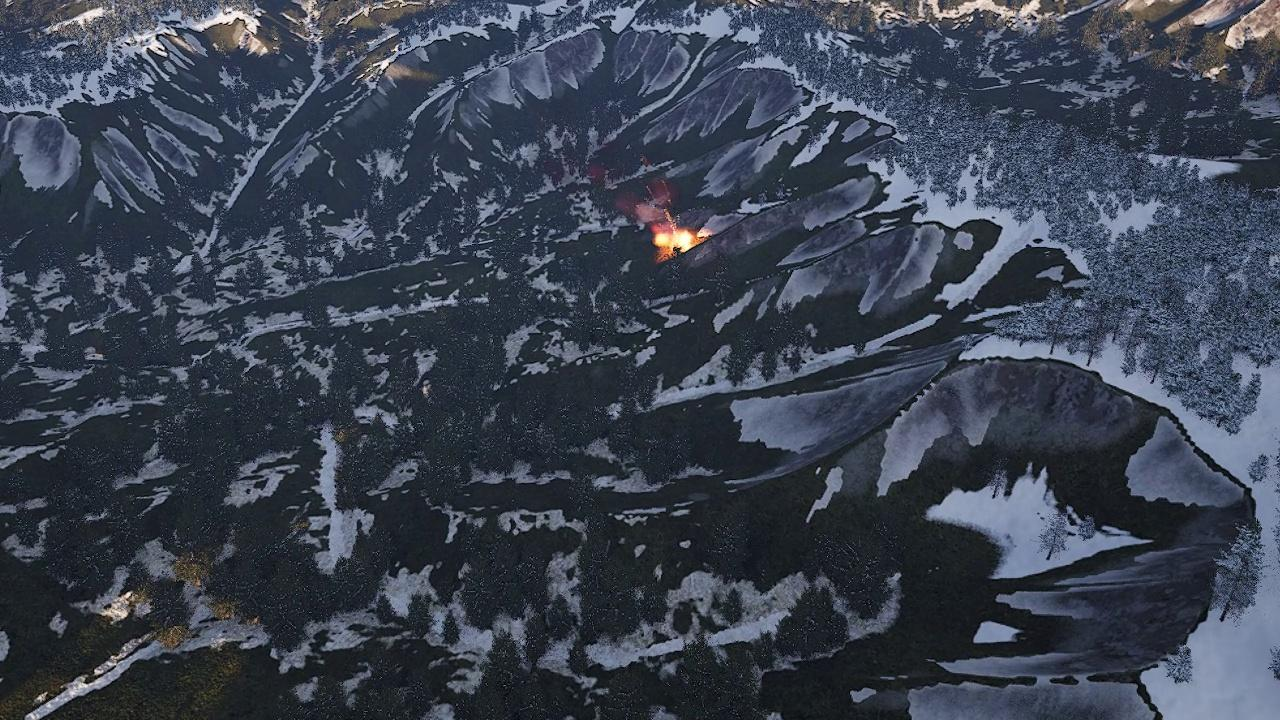fire: (652, 226, 700, 257)
smoke: (591, 164, 684, 233)
